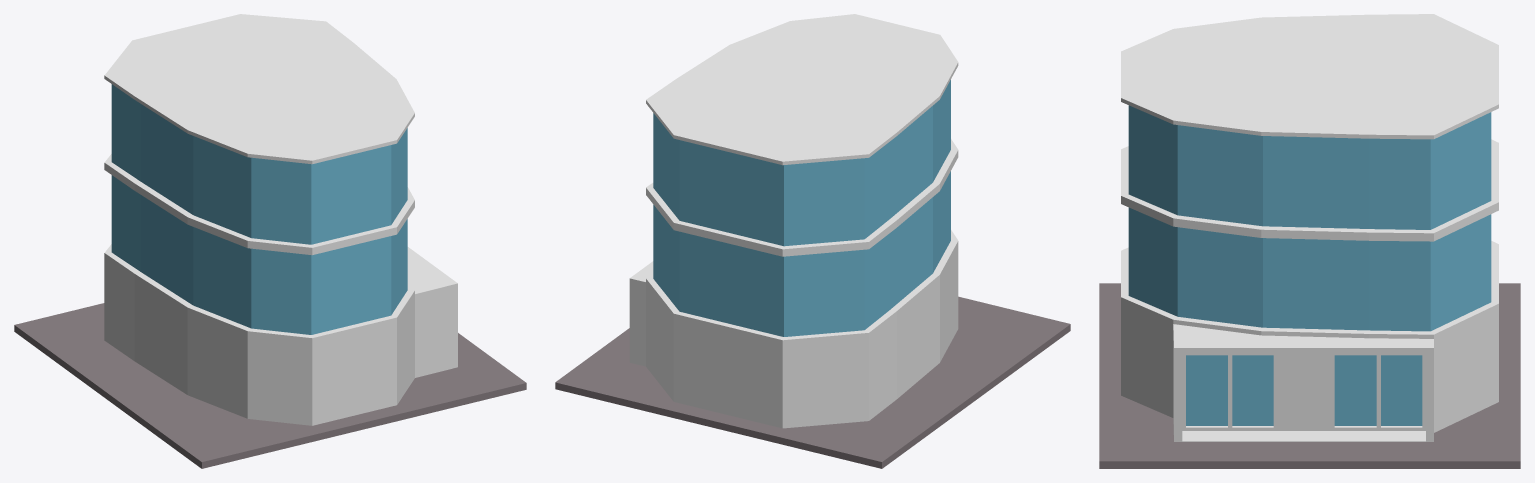
File: building_1x1_10_g.glb
3 renders of one model, left to right at view 1: azimuth 30°, elevation 25°; view 2: azimuth 150°, elevation 25°; view 3: azimuth 270°, elevation 25°, orthographic. The views are drawn at different scales.
Parts seen in each view (by area): view 1: FirstFloor; view 2: FirstFloor; view 3: FirstFloor.
Part boxes in pixels (x1,y1,x2,y2): FirstFloor: [14, 14, 526, 468]; FirstFloor: [555, 14, 1070, 468]; FirstFloor: [1099, 14, 1520, 468].
Size of the model in its own units: 2 by 1.6 by 2.
